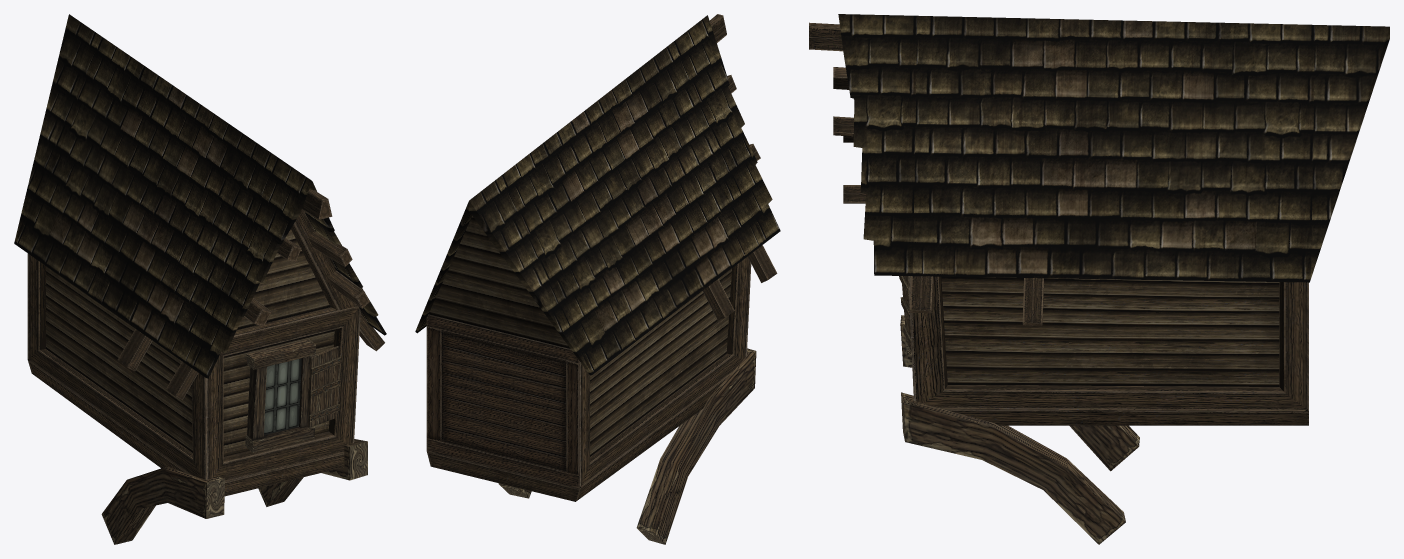
File: Window_c06.fbx
3 views of the same model, side by side, from view 1: azimuth 30°, elevation 25°; view 2: azimuth 150°, elevation 25°; view 3: azimuth 270°, elevation 25° (orthographic). The views are drawn at different scales.
Visible parts, largest first — view 1: Window_c06; view 2: Window_c06; view 3: Window_c06.
Part boxes in pixels (<box>): Window_c06: <box>14,14,386,544</box>; Window_c06: <box>415,14,780,544</box>; Window_c06: <box>809,14,1389,544</box>.
Bounding box in the file's own units: 3.76 × 7.24 × 7.76.
